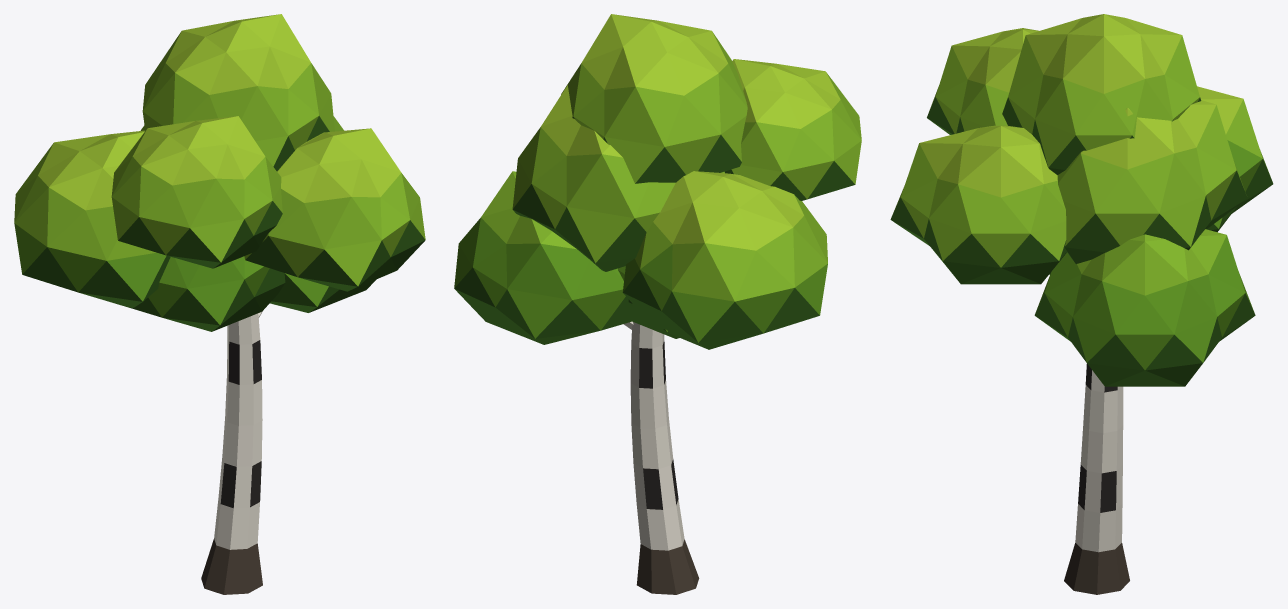
Rendered from tree_birch.glb.
3 renders of one model, left to right at view 1: azimuth 30°, elevation 25°; view 2: azimuth 150°, elevation 25°; view 3: azimuth 270°, elevation 25°, orthographic. The views are drawn at different scales.
Visible parts, largest first — view 1: tree_birch_foliage, tree_birch_wood; view 2: tree_birch_foliage, tree_birch_wood; view 3: tree_birch_foliage, tree_birch_wood.
Part boxes in pixels (x1=…): tree_birch_foliage: x1=14, y1=14, x2=425, y2=331; tree_birch_wood: x1=201, y1=311, x2=262, y2=594; tree_birch_foliage: x1=454, y1=14, x2=861, y2=349; tree_birch_wood: x1=623, y1=321, x2=699, y2=594; tree_birch_foliage: x1=890, y1=14, x2=1273, y2=386; tree_birch_wood: x1=1064, y1=364, x2=1129, y2=594.
Bounding box in the file's own units: 4.79 × 7.25 × 4.39.
